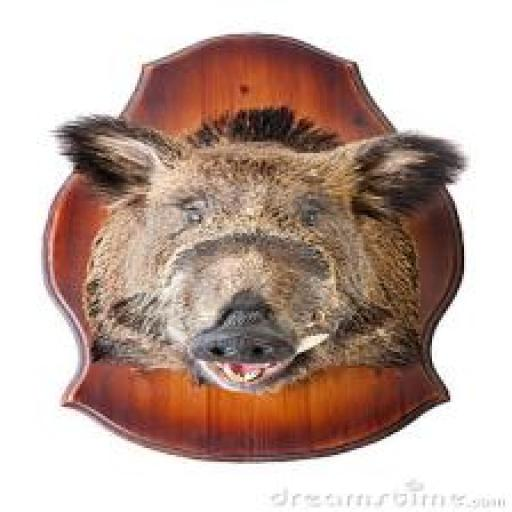Pig: (50, 105, 465, 393)
